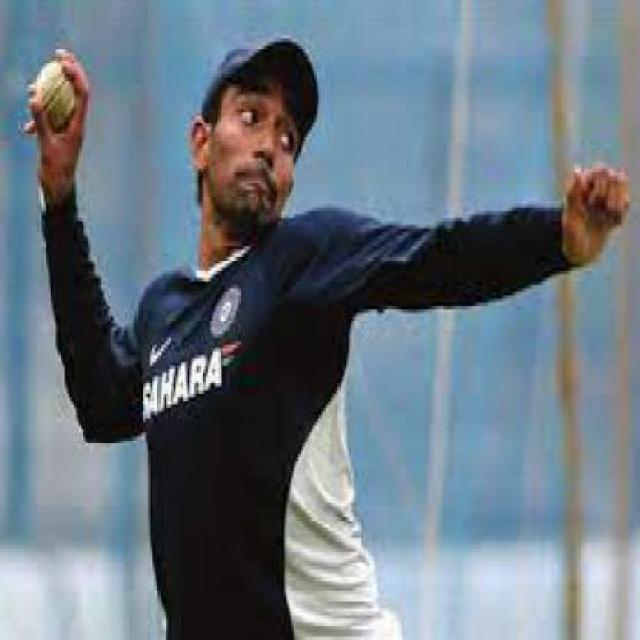ball: (14, 33, 91, 144)
